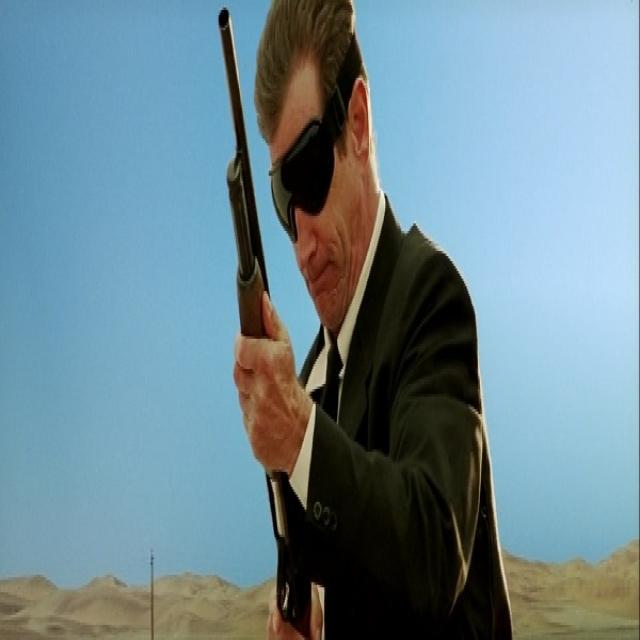rifle: (216, 7, 316, 636)
